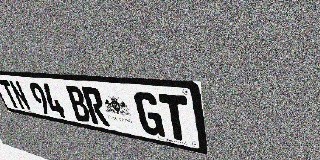4: (40, 83, 67, 118)
9: (27, 82, 53, 115)
B: (64, 85, 92, 123)
G: (133, 91, 165, 137)
N: (8, 80, 32, 111)
R: (81, 87, 110, 127)
T: (158, 93, 192, 143), (0, 79, 21, 109)
